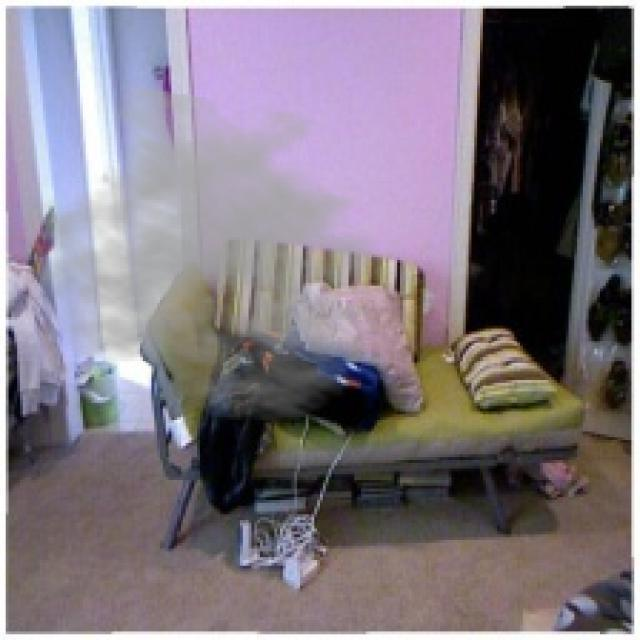Smoke: (14, 83, 420, 426)
